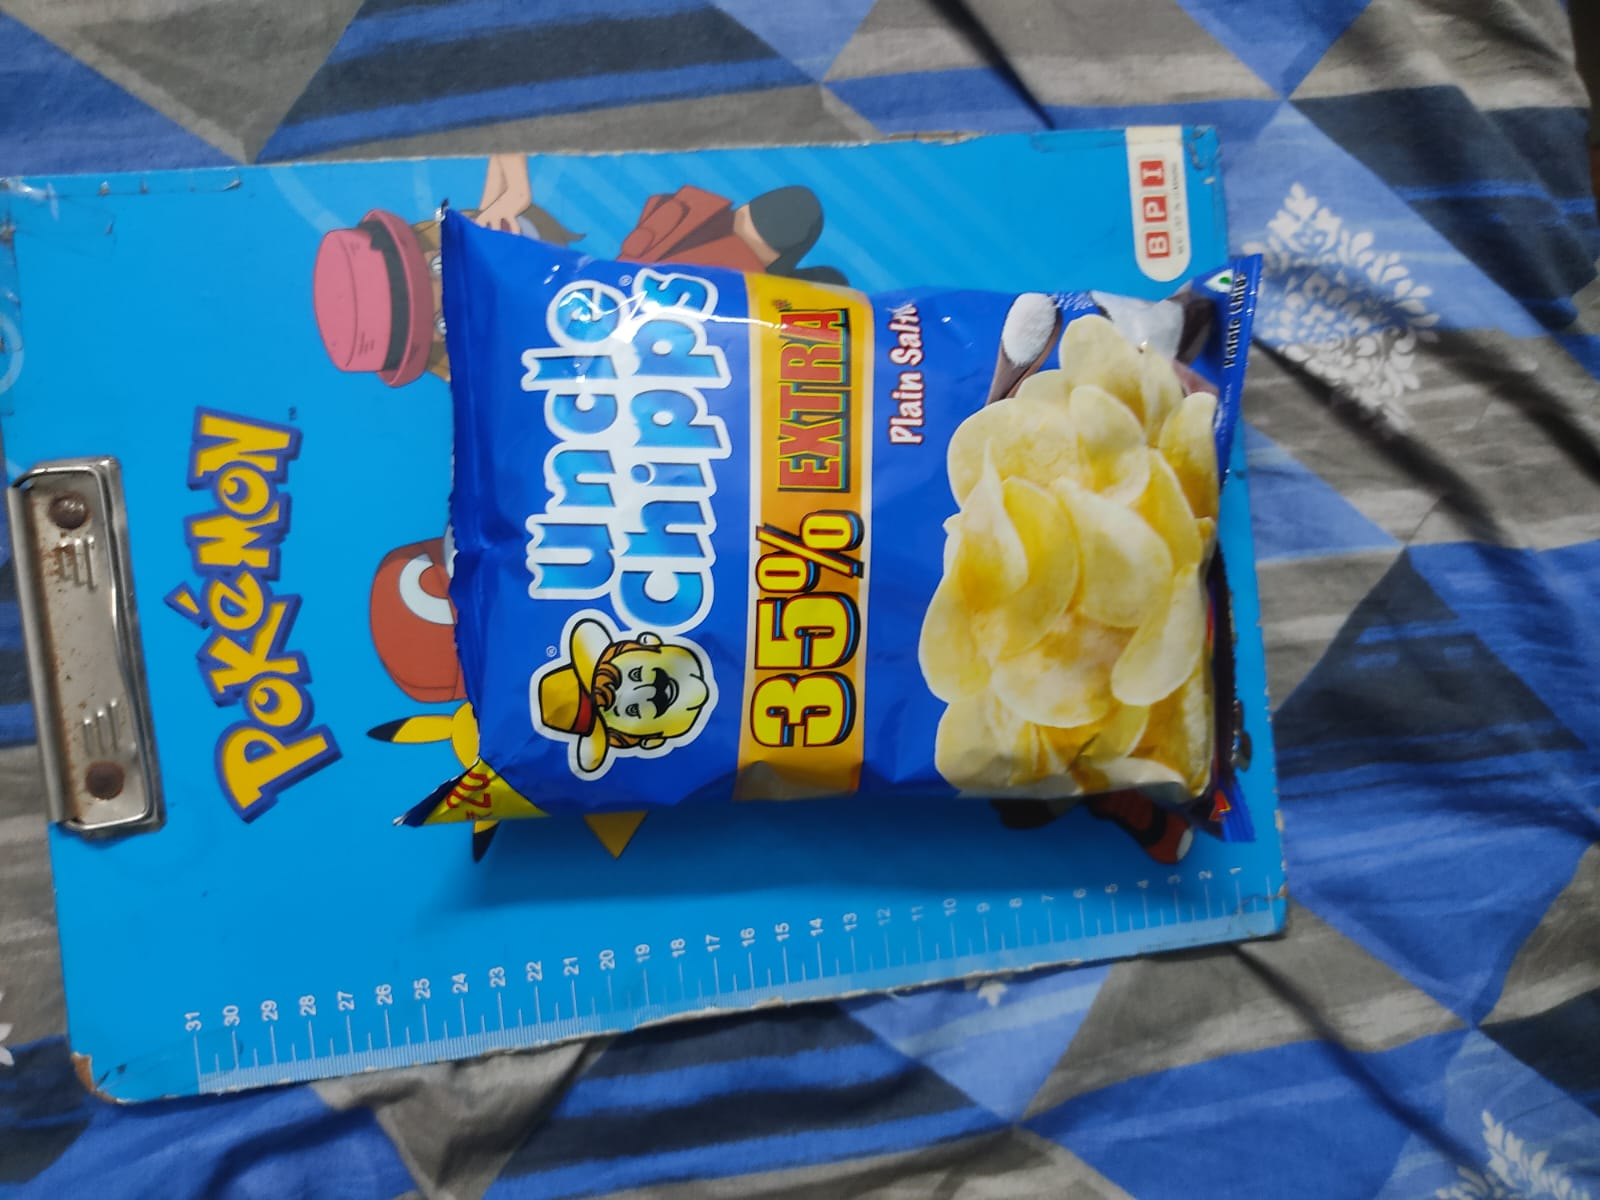020_UncleChips: (467, 251, 1223, 805)
